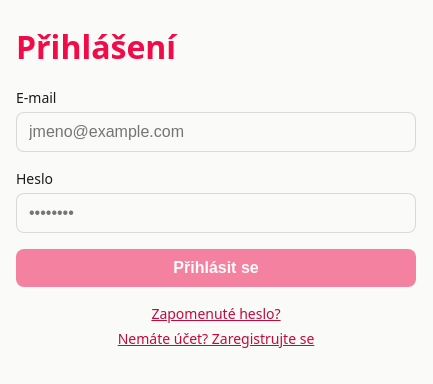
Test case: Přihlášení (apps/web, MSW) › shows an error message when the API rejects the credentials
In the field labelled "E-mail": (216, 132) [16,112,416,152], type "member@example.com"
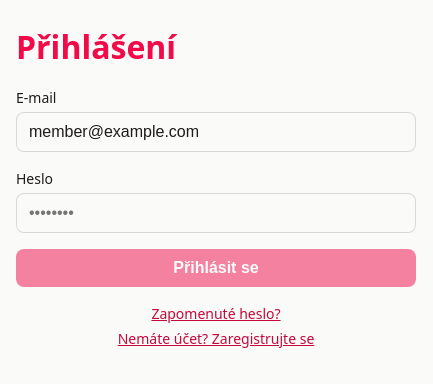
In the password field labelled "Heslo": (216, 213) [16,193,416,233], type "wrong"
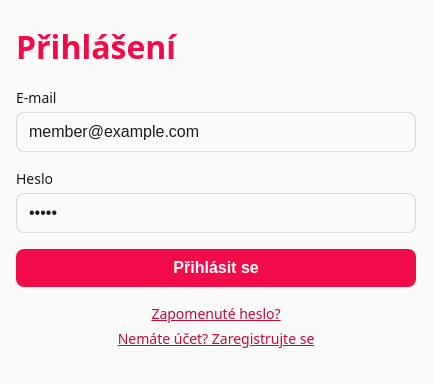
Click the button "Přihlásit se": (216, 268) [16,249,416,287]
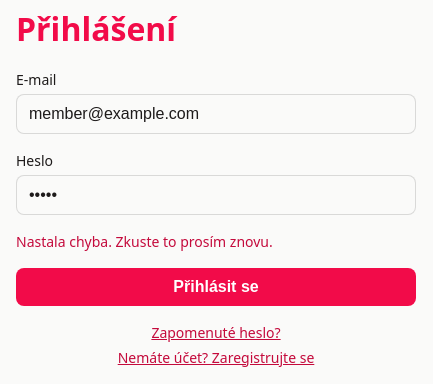
Now the text "Nastala chyba" is shown, box [16,232,273,251]
